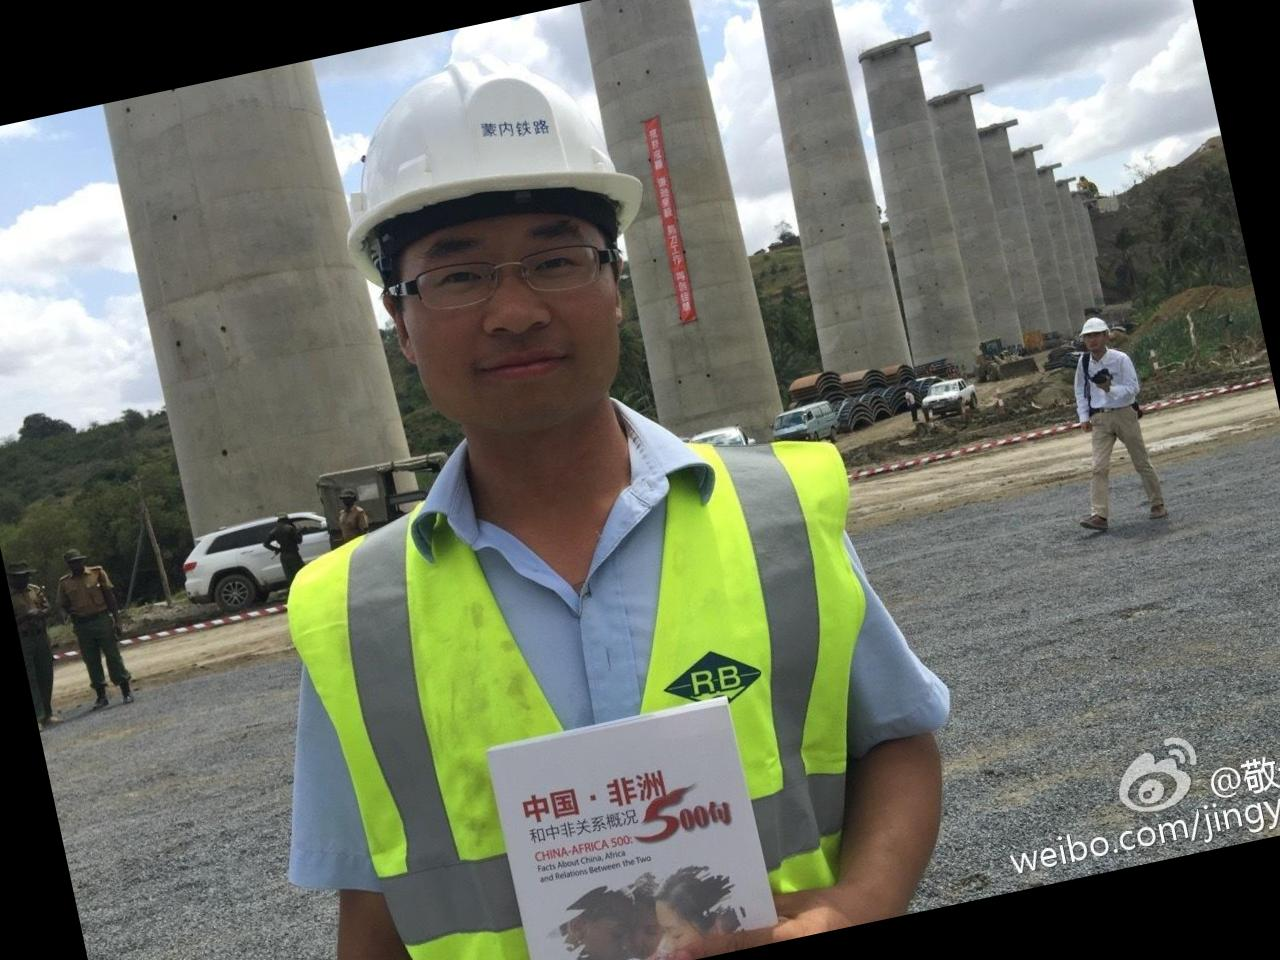Helmet: (314, 33, 657, 280)
Vest: (263, 417, 951, 960)
